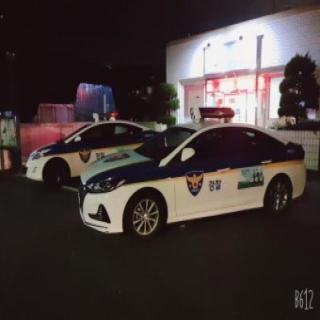Police_car: (78, 104, 308, 240), (24, 110, 166, 188)
